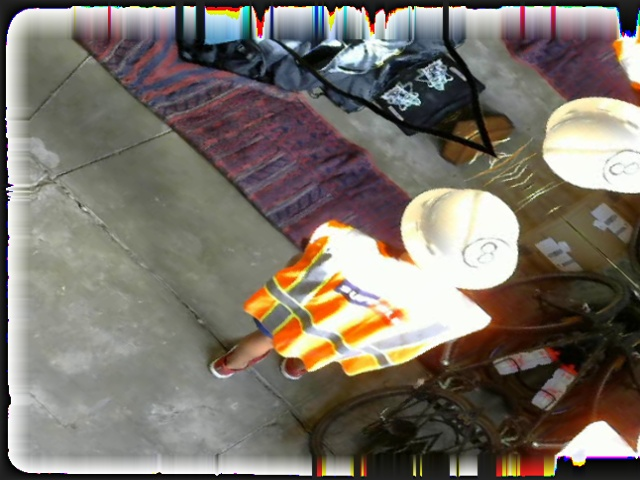eight: (454, 228, 520, 277)
